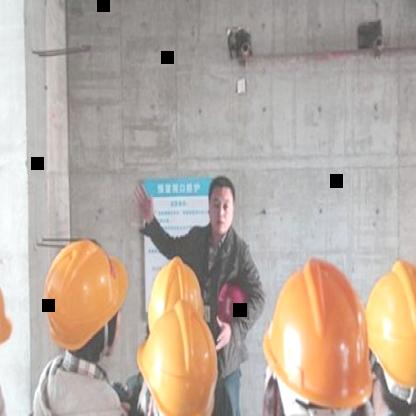helmet: (256, 256, 373, 416), (137, 304, 223, 416), (42, 241, 127, 353), (360, 254, 416, 411), (144, 258, 206, 356), (0, 257, 16, 400)
